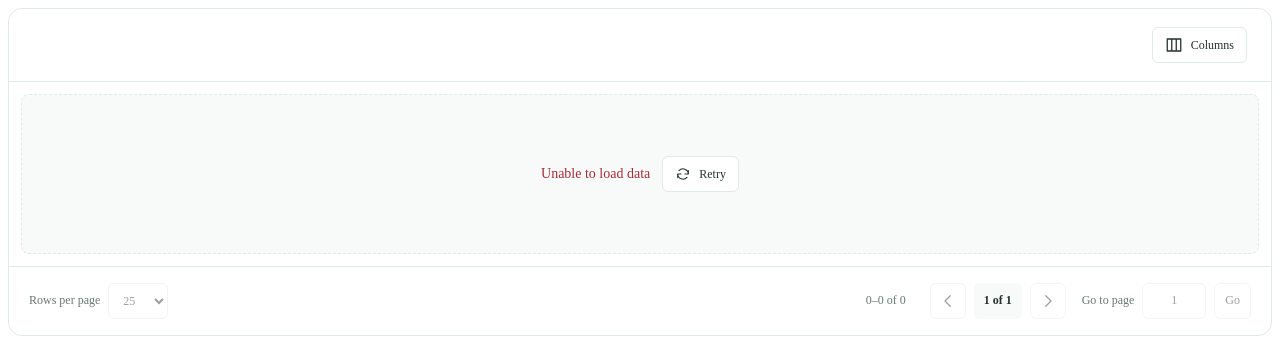
Test: SmartDataTable › shows a provider error and reloads when the retry control is clicked
The image size is (1280, 353).
Click the button "Retry": [701, 174] box [662,156,739,192]
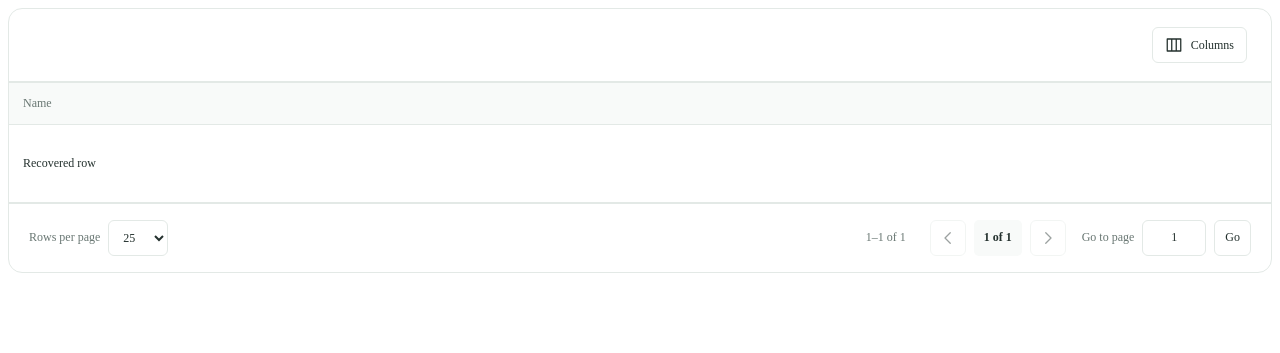
Expected: the text "Recovered row" is shown, [23,156,96,170]
